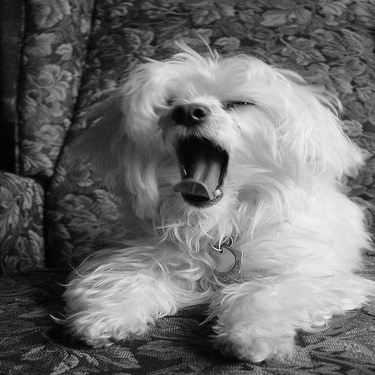dog: (45, 27, 374, 366)
